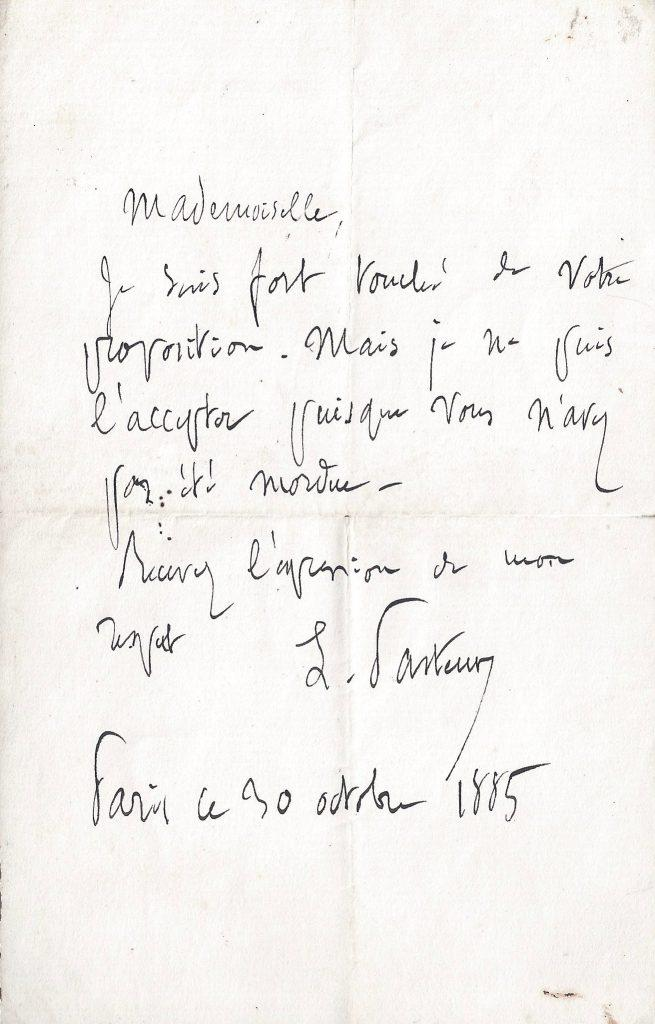text: (89, 378, 626, 497), (90, 241, 641, 337), (83, 724, 554, 836), (112, 527, 578, 626), (76, 316, 617, 400), (290, 594, 501, 786), (100, 454, 407, 555), (116, 172, 349, 237), (92, 615, 188, 683)
